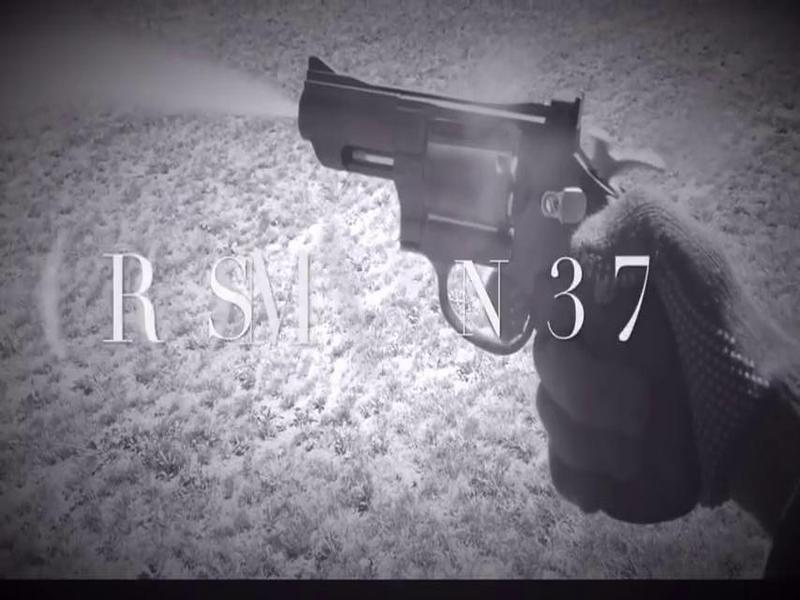Revolver: (267, 45, 673, 386)
